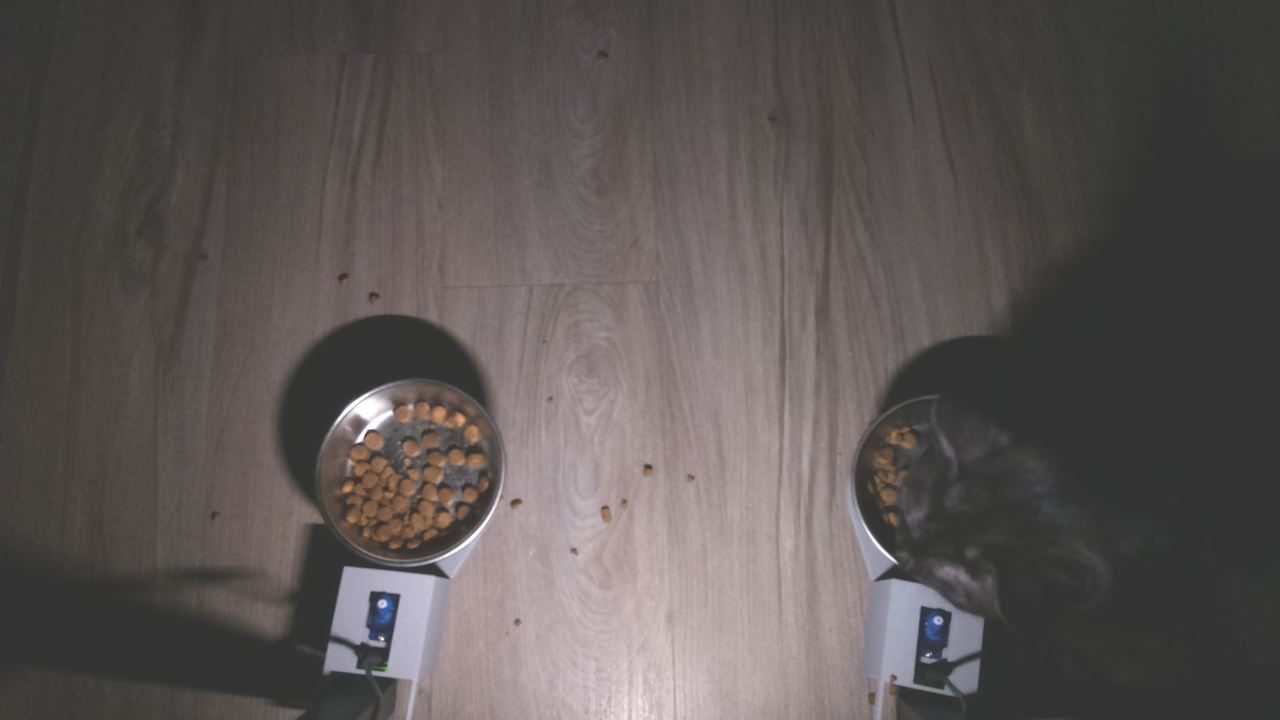open_bowl: (302, 375, 511, 573)
saki_eating: (835, 373, 1157, 642)
